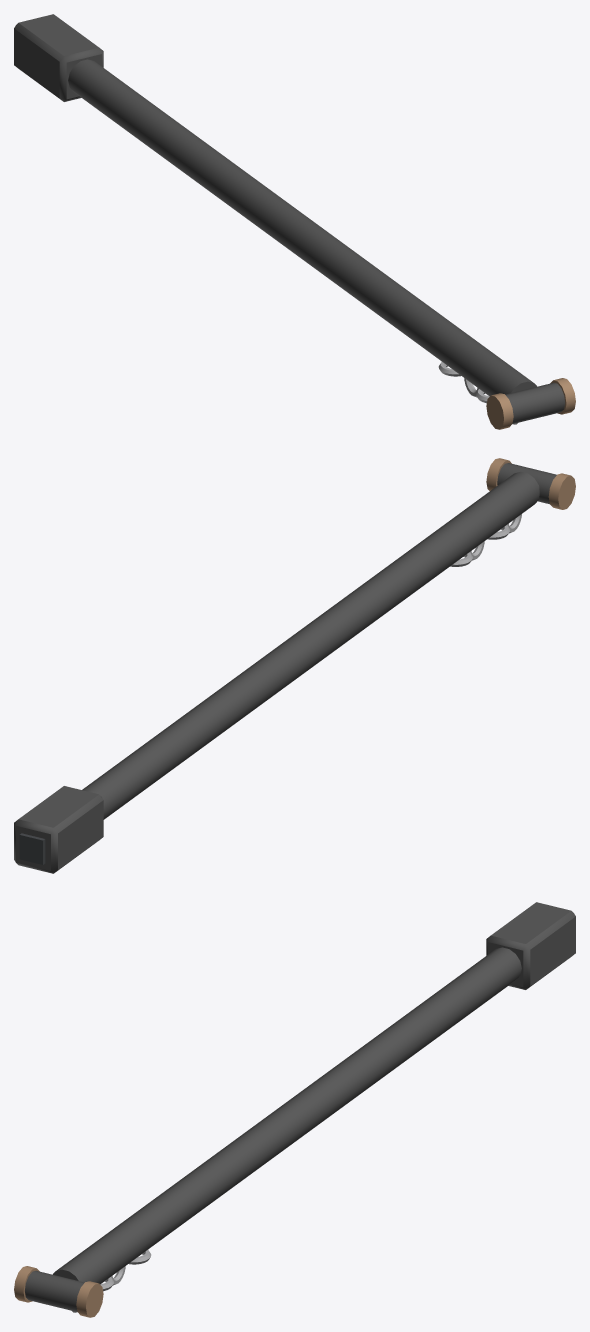
Rendered from scour_key.glb.
The picture shows the model from 3 angles, top to bottom: view 1: azimuth 30°, elevation 25°; view 2: azimuth 150°, elevation 25°; view 3: azimuth 330°, elevation 25°; orthographic projection.
Visible parts, largest first — view 1: body; view 2: body; view 3: body.
Part boxes in pixels (<box>): body: <box>14,14,575,429</box>; body: <box>14,458,575,873</box>; body: <box>14,902,575,1317</box>.
Bounding box in the file's own units: 0.049 × 0.0372 × 0.601.
